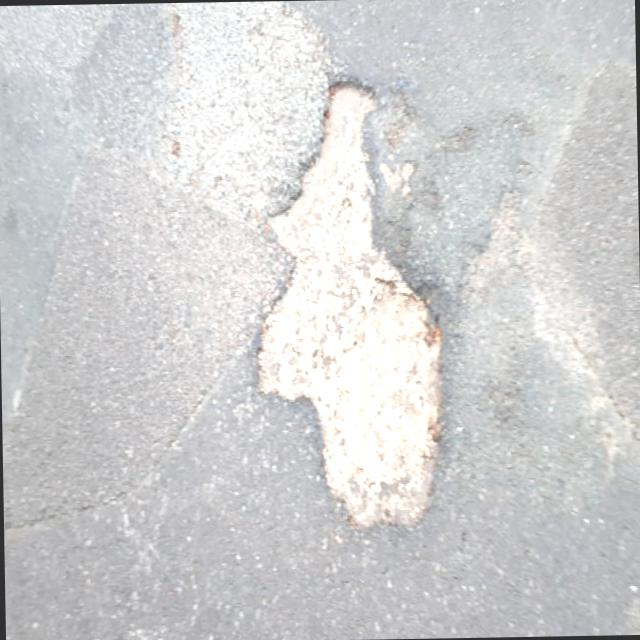pothole: (249, 66, 450, 538)
